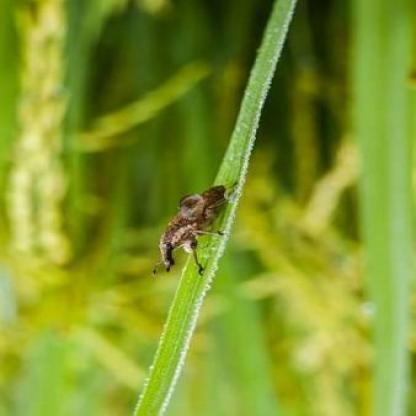rice-bug: (150, 176, 238, 271)
